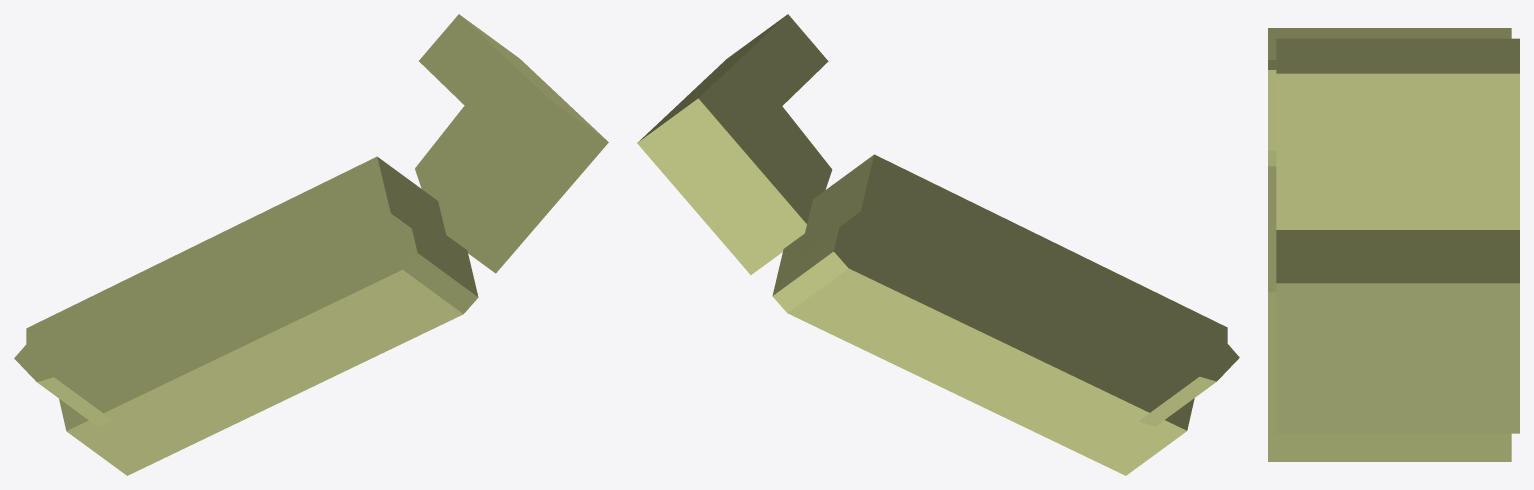
The picture shows the model from 3 angles, left to right: view 1: azimuth 30°, elevation 25°; view 2: azimuth 150°, elevation 25°; view 3: azimuth 270°, elevation 25°; orthographic projection. The views are drawn at different scales.
Visible parts, largest first — view 1: 0_1_0_0_3_0_3_1_3; view 2: 0_1_0_0_3_0_3_1_3; view 3: 0_1_0_0_3_0_3_1_3.
Boxes of the visible parts, x1=… form: 0_1_0_0_3_0_3_1_3: x1=14, y1=14, x2=608, y2=475; 0_1_0_0_3_0_3_1_3: x1=637, y1=14, x2=1239, y2=475; 0_1_0_0_3_0_3_1_3: x1=1268, y1=28, x2=1519, y2=461.
Size of the model in its own units: 45.71 by 26.04 by 9.3.
